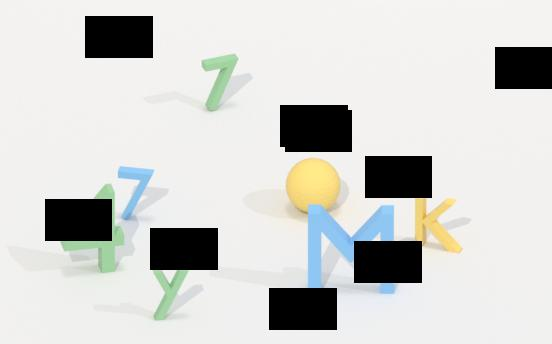4: (59, 180, 126, 276)
7: (199, 50, 240, 112), (115, 162, 155, 223)
M-hoa: (307, 199, 399, 300)
Y: (151, 265, 189, 321)
cau: (285, 156, 344, 219)
k: (413, 190, 464, 257)
